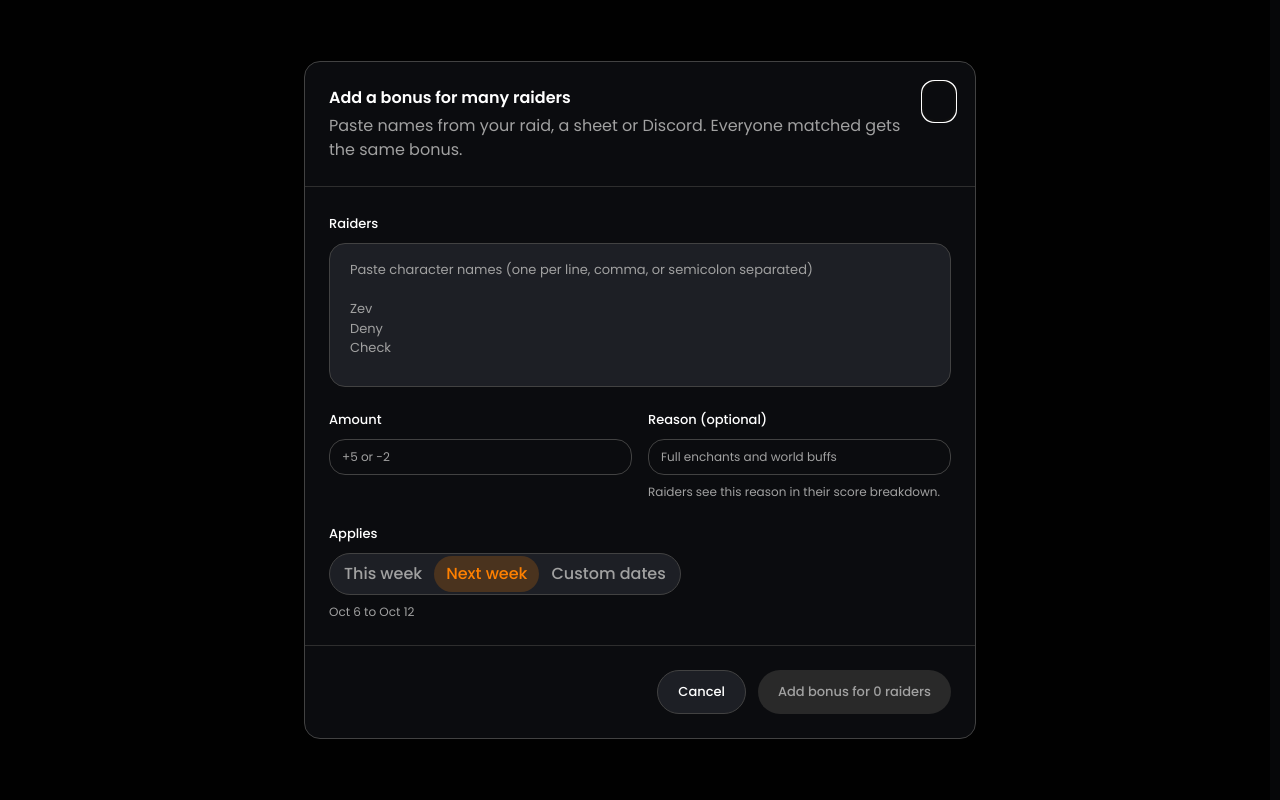
Test: BulkRaiderBonusModal › shows the resolved dates for each duration
The image size is (1280, 800).
Expected: the text "Oct 6 to Oct 12" is shown, x1=329 y1=603 x2=414 y2=620
Step 1. Click the button "This week" → [383, 574], box x1=332 y1=556 x2=434 y2=592
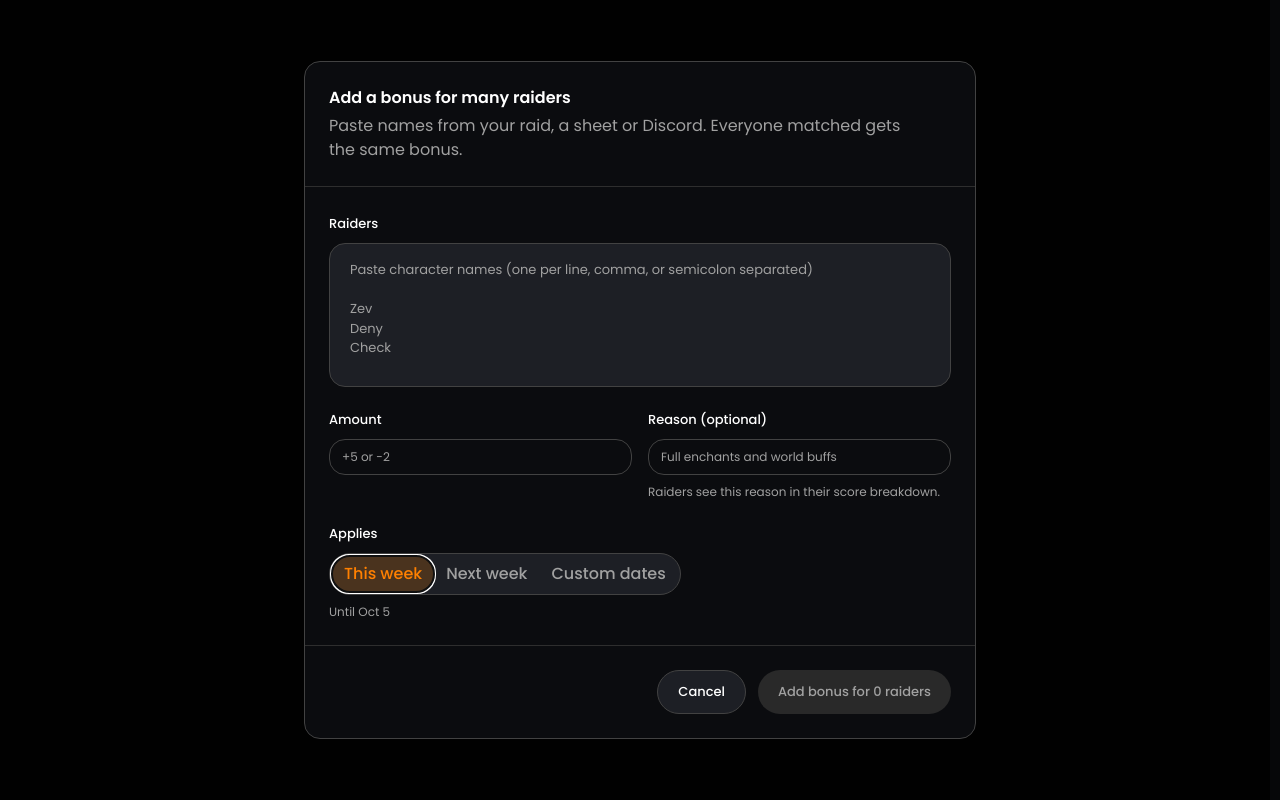
Result: the text "Until Oct 5" is shown at x1=329 y1=603 x2=390 y2=620
Step 2. Click the button "Next week" → [487, 574], box x1=434 y1=556 x2=540 y2=592
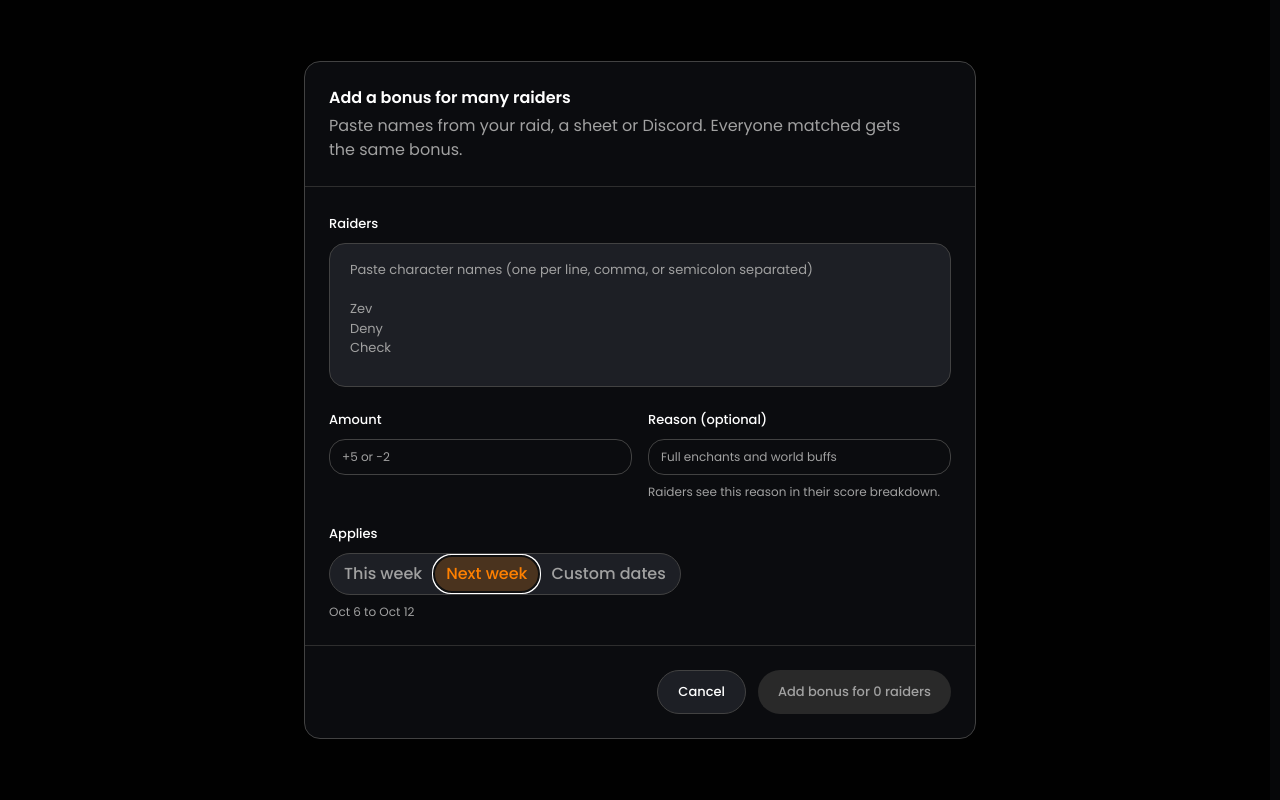
Result: the text "Oct 6 to Oct 12" is shown at x1=329 y1=603 x2=414 y2=620
